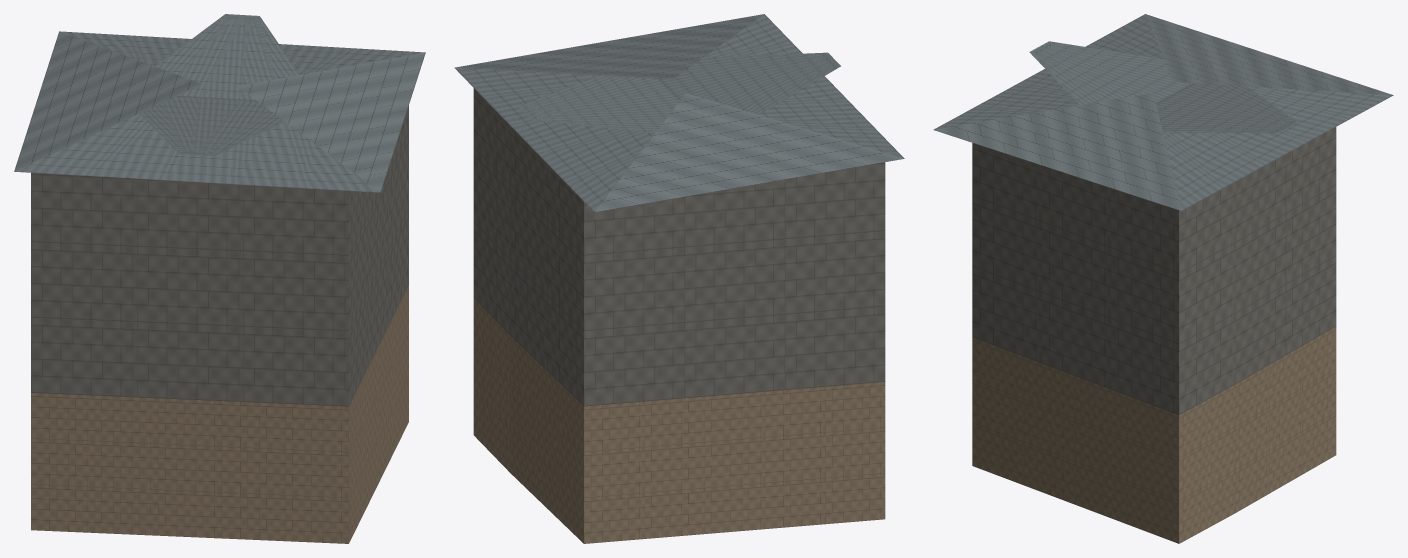
The model's file is bld_c42_-47_463.gltf.
3 renders of one model, left to right at view 1: azimuth 30°, elevation 25°; view 2: azimuth 150°, elevation 25°; view 3: azimuth 270°, elevation 25°, orthographic. The views are drawn at different scales.
Parts seen in each view (by area): view 1: bld_c42_-47_463; view 2: bld_c42_-47_463; view 3: bld_c42_-47_463.
Boxes of the visible parts, left/top/right/bottom form: bld_c42_-47_463: left=14, top=14, right=425, bottom=543; bld_c42_-47_463: left=454, top=14, right=904, bottom=543; bld_c42_-47_463: left=933, top=14, right=1393, bottom=543.
Bounding box in the file's own units: 16.74 × 14.5 × 16.53.
Materials: 3 (3 with a texture image).
